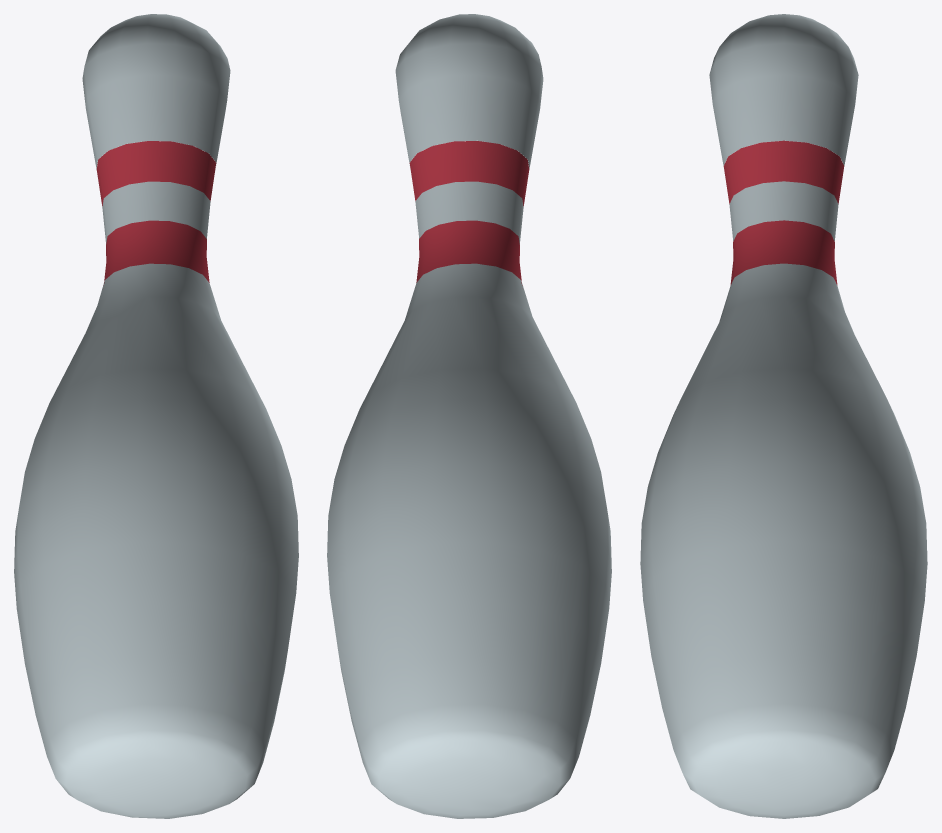
The model's file is bowlingBall.glb.
3 renders of one model, left to right at view 1: azimuth 30°, elevation 25°; view 2: azimuth 150°, elevation 25°; view 3: azimuth 270°, elevation 25°, orthographic.
Visible parts, largest first — view 1: bowlingBall; view 2: bowlingBall; view 3: bowlingBall.
Boxes of the visible parts, <box> form: bowlingBall: <box>14,14,298,818</box>; bowlingBall: <box>327,14,611,818</box>; bowlingBall: <box>640,14,927,818</box>.
Size of the model in its own units: 0.1126 by 0.3333 by 0.1126.
